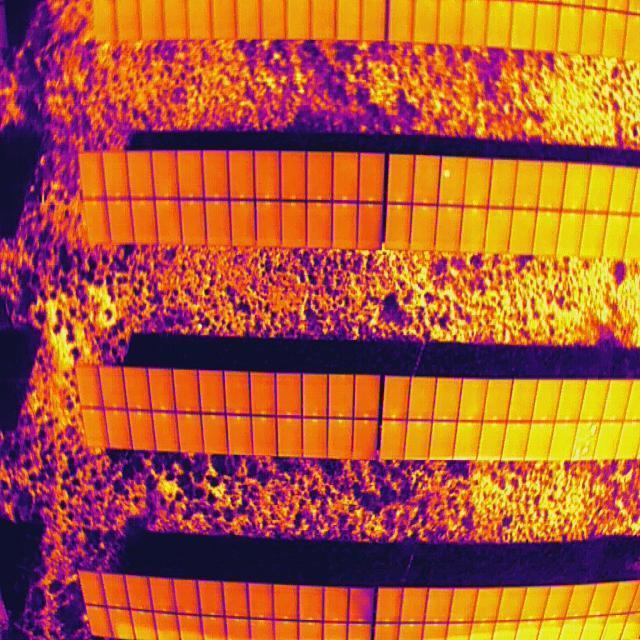hotspot: (442, 166, 454, 180)
